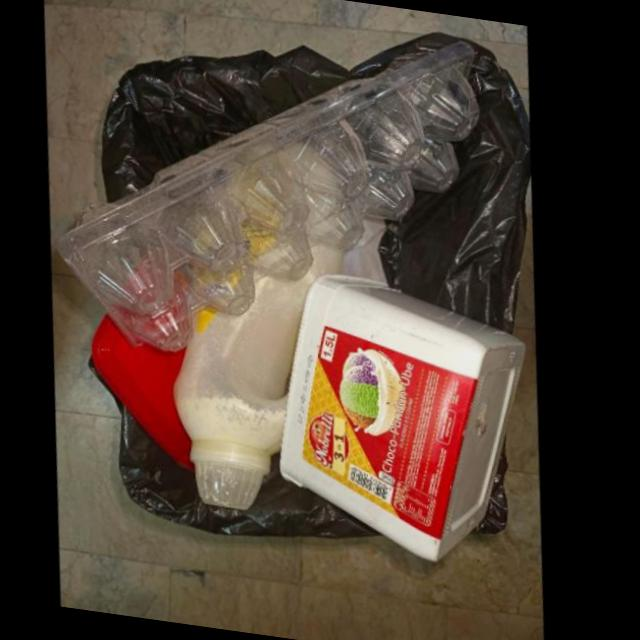chai_nhua: (176, 245, 350, 510)
hop_nhua: (60, 40, 488, 352), (281, 274, 531, 561)
